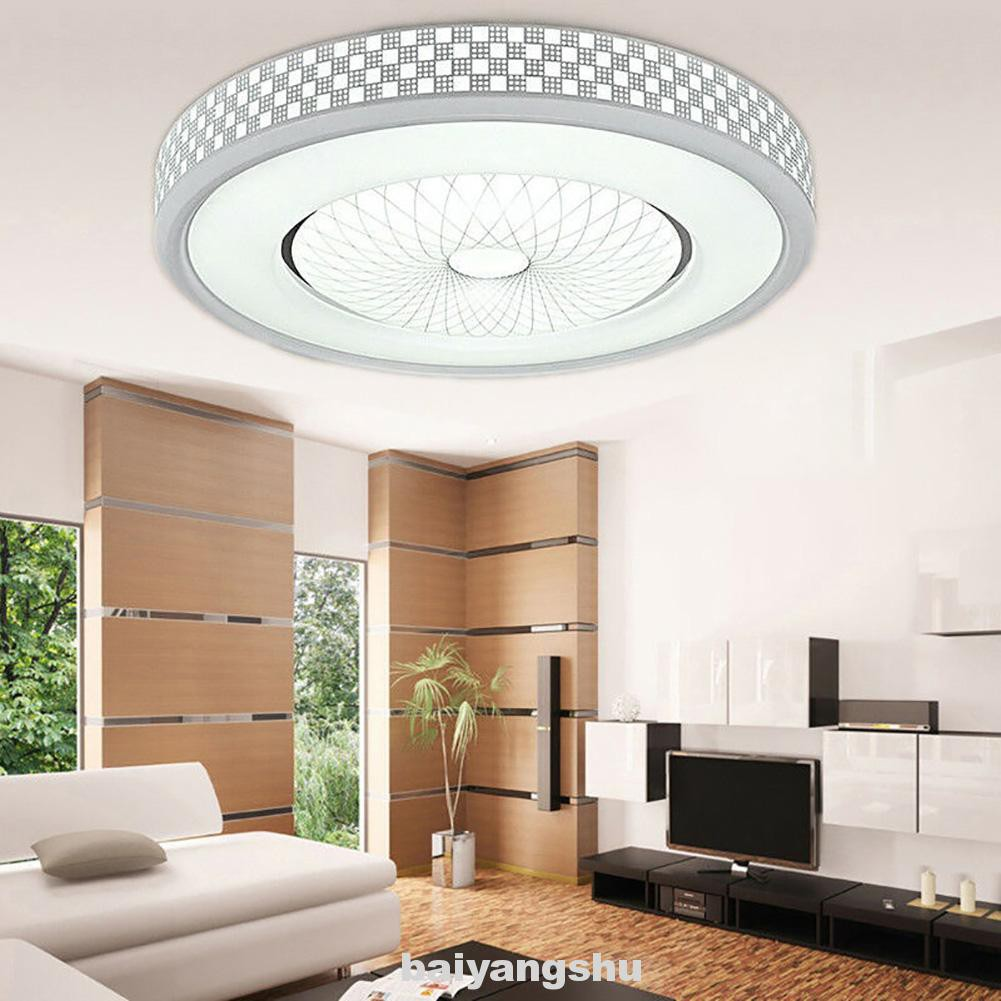bantal: (32, 828, 169, 877)
sova: (3, 772, 419, 971)
tanaman: (399, 645, 502, 889), (2, 526, 73, 760), (296, 567, 356, 775)
tv: (662, 748, 826, 875)
